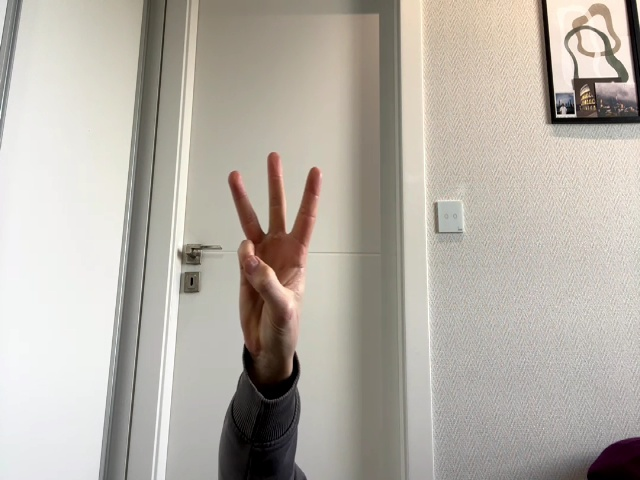W: (228, 152, 321, 358)
